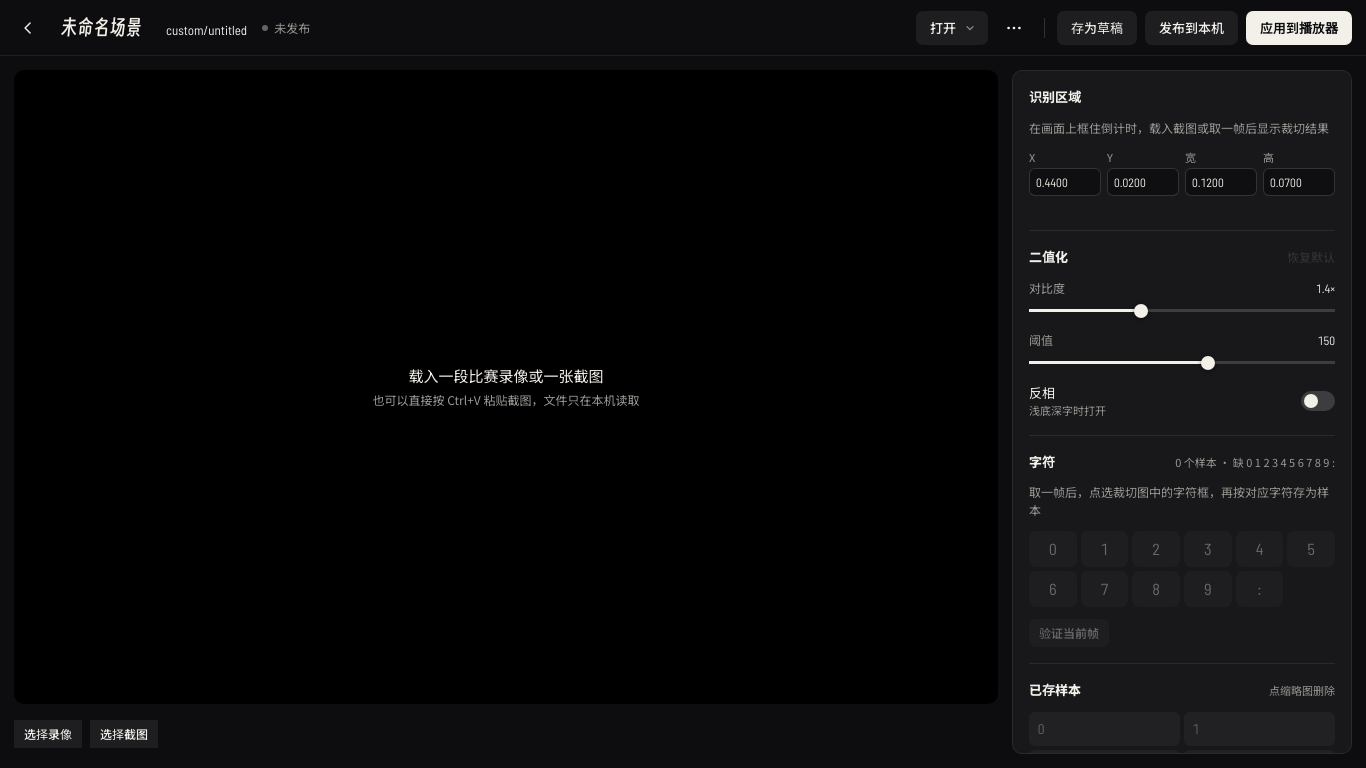
it: EditorPage desktop entry › opens directly and shows main-process write validation without a token gate
Check: the field named "名称" holds "未命名场景", box left=54, top=8, right=149, bottom=46
What coordinates should you click on to do the following:
click the button "发布到本机"
I would click on:
 (1192, 28)
Its box is left=1145, top=10, right=1238, bottom=44.
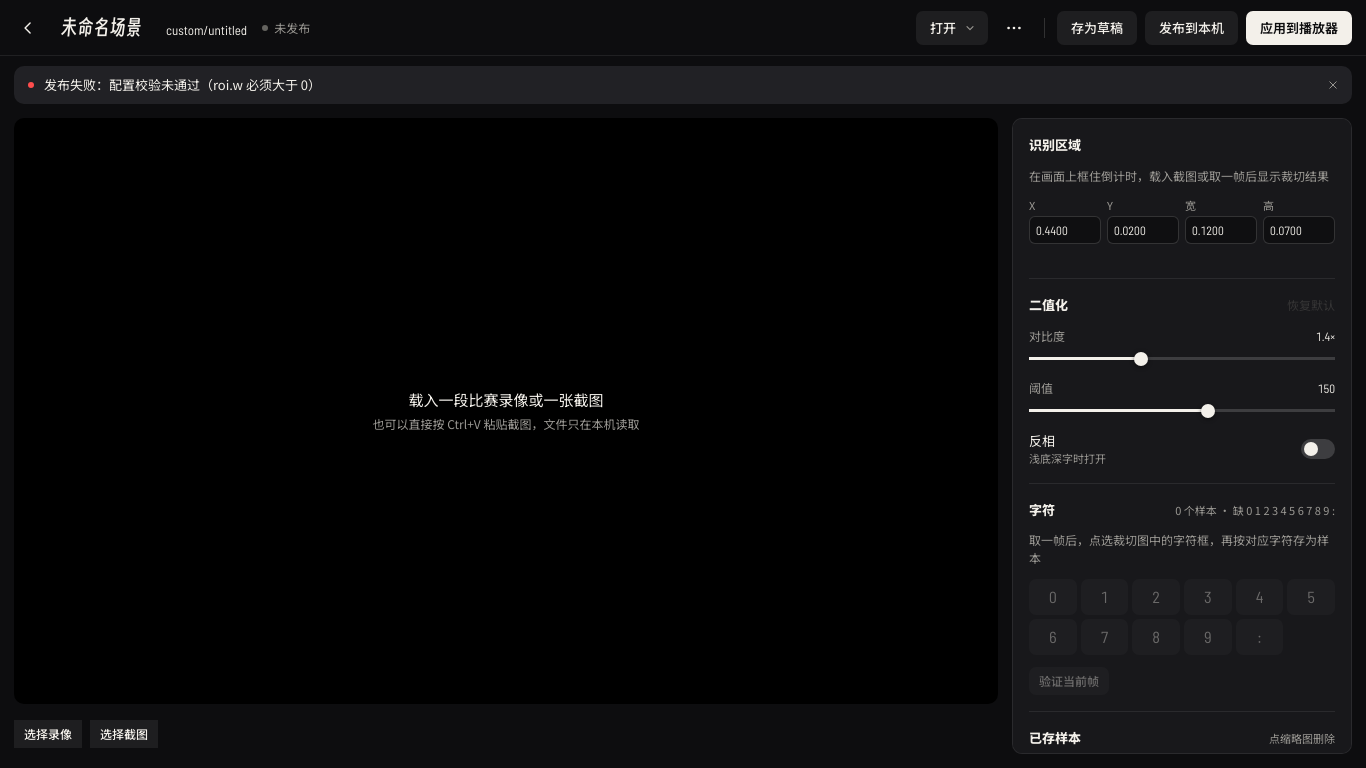
Check: the message shows "roi.w 必须大于 0", box left=44, top=75, right=321, bottom=94
